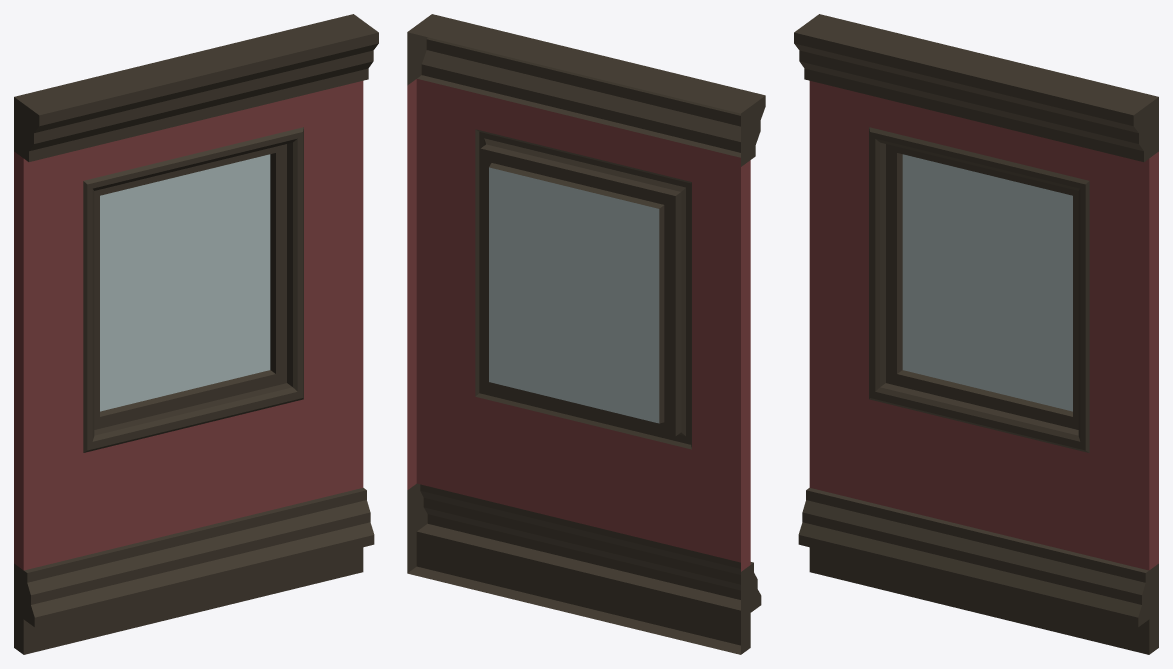
Rendered from Wall1_var1.fbx.
3 views of the same model, side by side, from view 1: azimuth 30°, elevation 25°; view 2: azimuth 150°, elevation 25°; view 3: azimuth 330°, elevation 25° (orthographic).
Visible parts, largest first — view 1: Wall1_var1; view 2: Wall1_var1; view 3: Wall1_var1.
Boxes of the visible parts, left/top/right/bottom form: Wall1_var1: left=14, top=14, right=378, bottom=654; Wall1_var1: left=407, top=14, right=765, bottom=654; Wall1_var1: left=794, top=14, right=1158, bottom=654.
Bounding box in the file's own units: 200 × 310 × 25.82.
